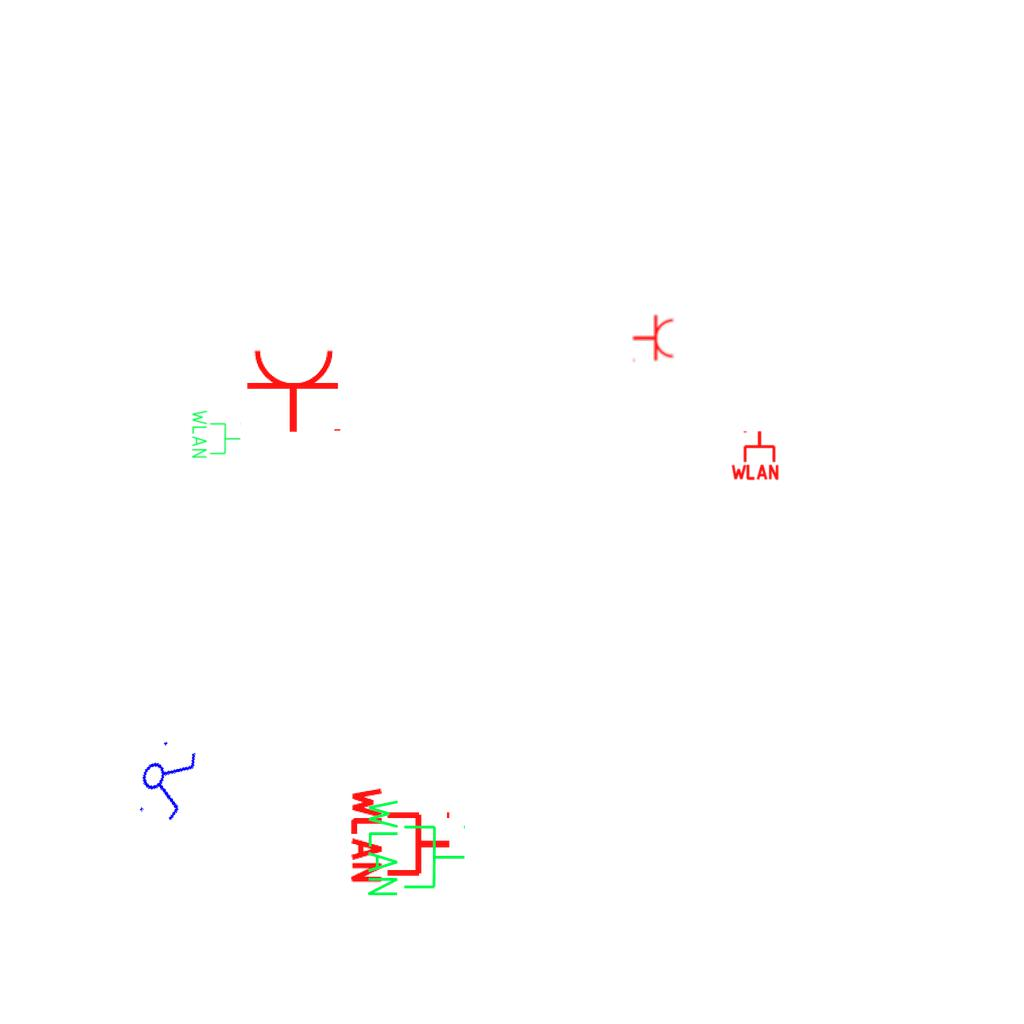Schukosteckdose_einfach: (245, 347, 345, 434), (632, 314, 675, 364)
Serienschalter: (129, 732, 203, 828)
WLAN: (349, 783, 454, 887), (364, 795, 468, 900), (728, 428, 782, 482), (190, 408, 242, 460)
